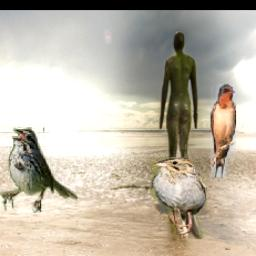Sparrow: (0, 128, 78, 214), (150, 156, 207, 240)
Swallow: (212, 85, 237, 178)
